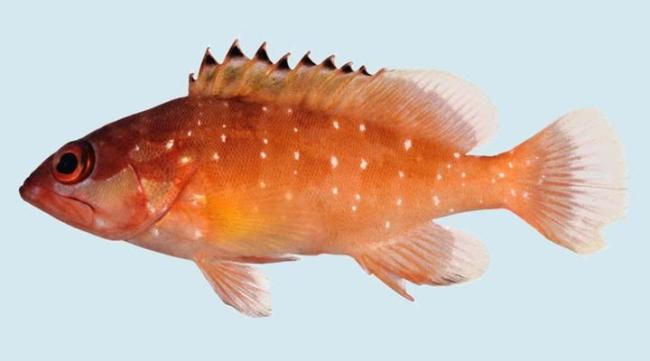fish: (19, 37, 630, 318)
